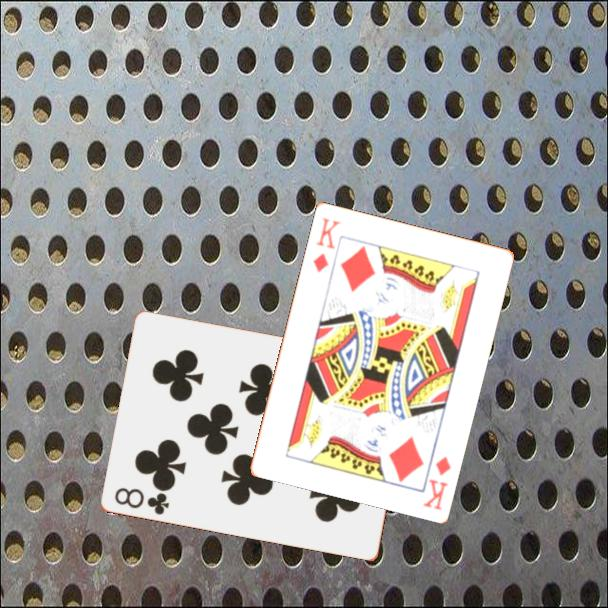c08: (111, 484, 173, 517)
d13: (309, 213, 343, 275), (419, 452, 454, 512)
